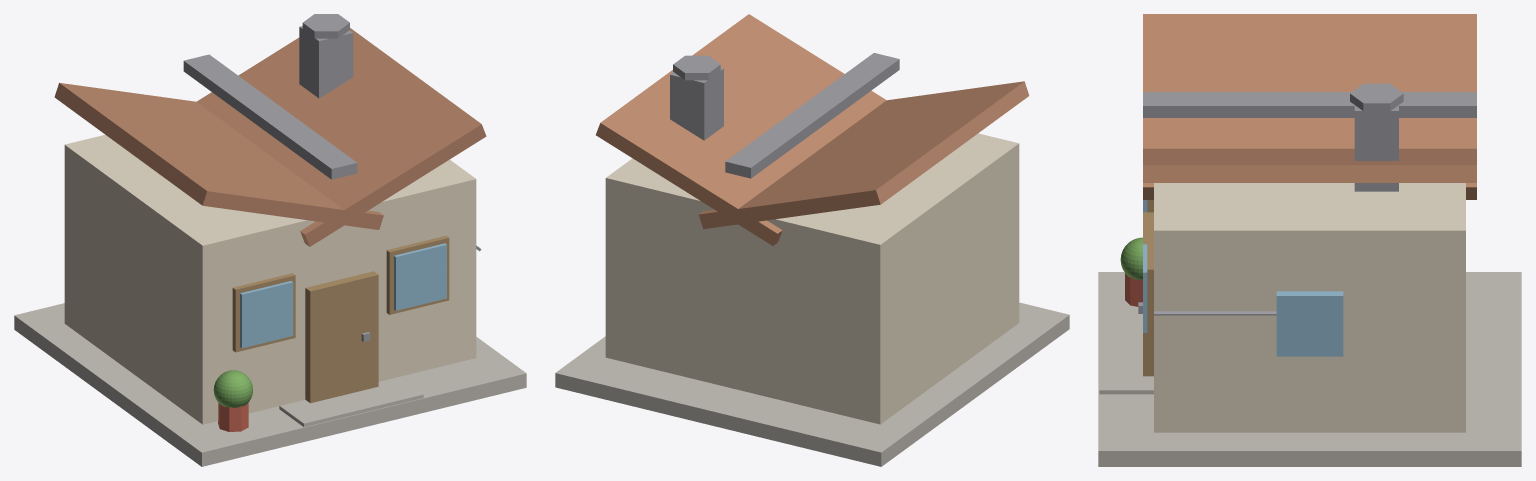
The model's file is house.glb.
3 views of the same model, side by side, from view 1: azimuth 30°, elevation 25°; view 2: azimuth 150°, elevation 25°; view 3: azimuth 270°, elevation 25° (orthographic). The views are drawn at different scales.
Parts seen in each view (by area): view 1: House; view 2: House; view 3: House.
Boxes of the visible parts, x1,y1,x2,y2 form: House: (14,14,526,466); House: (555,14,1069,466); House: (1098,14,1521,466).
Bounding box in the file's own units: 1.9 × 1.64 × 1.9.
